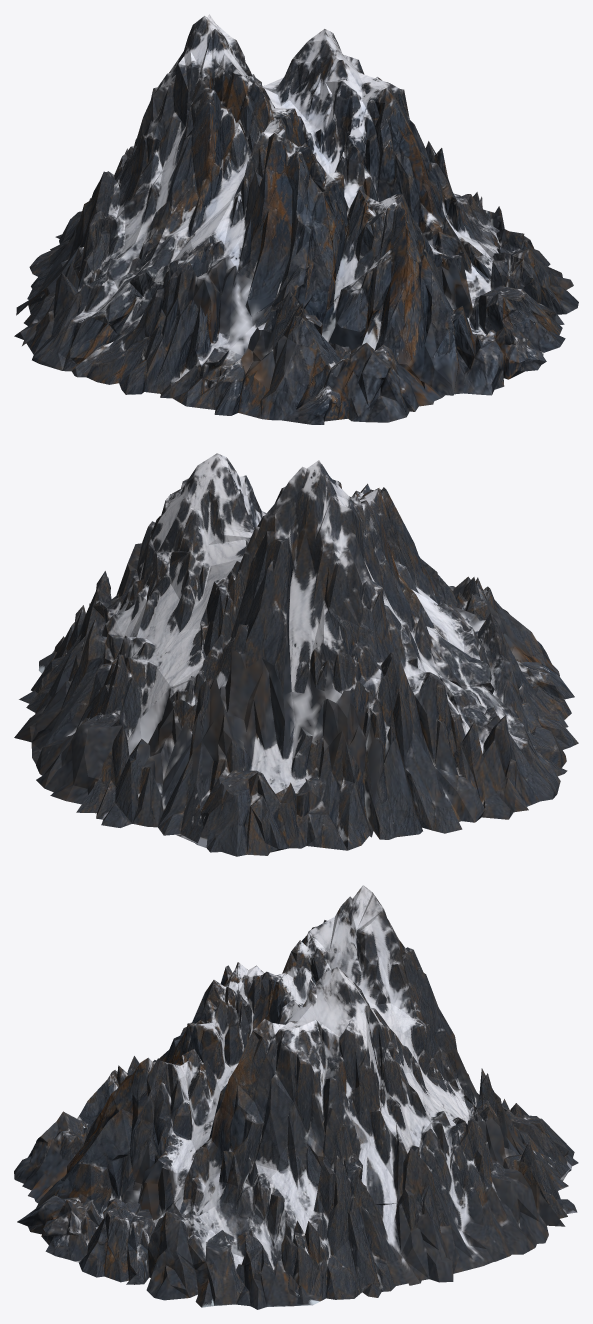
Rendered from peak_medium_raw.glb.
The picture shows the model from 3 angles, top to bottom: view 1: azimuth 30°, elevation 25°; view 2: azimuth 150°, elevation 25°; view 3: azimuth 270°, elevation 25°; orthographic projection. The views are drawn at different scales.
Parts seen in each view (by area): view 1: output_unwrapped; view 2: output_unwrapped; view 3: output_unwrapped.
Boxes of the visible parts, x1,y1,x2,y2 form: output_unwrapped: (14, 14, 578, 424); output_unwrapped: (14, 453, 578, 856); output_unwrapped: (14, 885, 578, 1309).
Bounding box in the file's own units: 1.89 × 1.04 × 1.89.
1 material, 1 textured.
